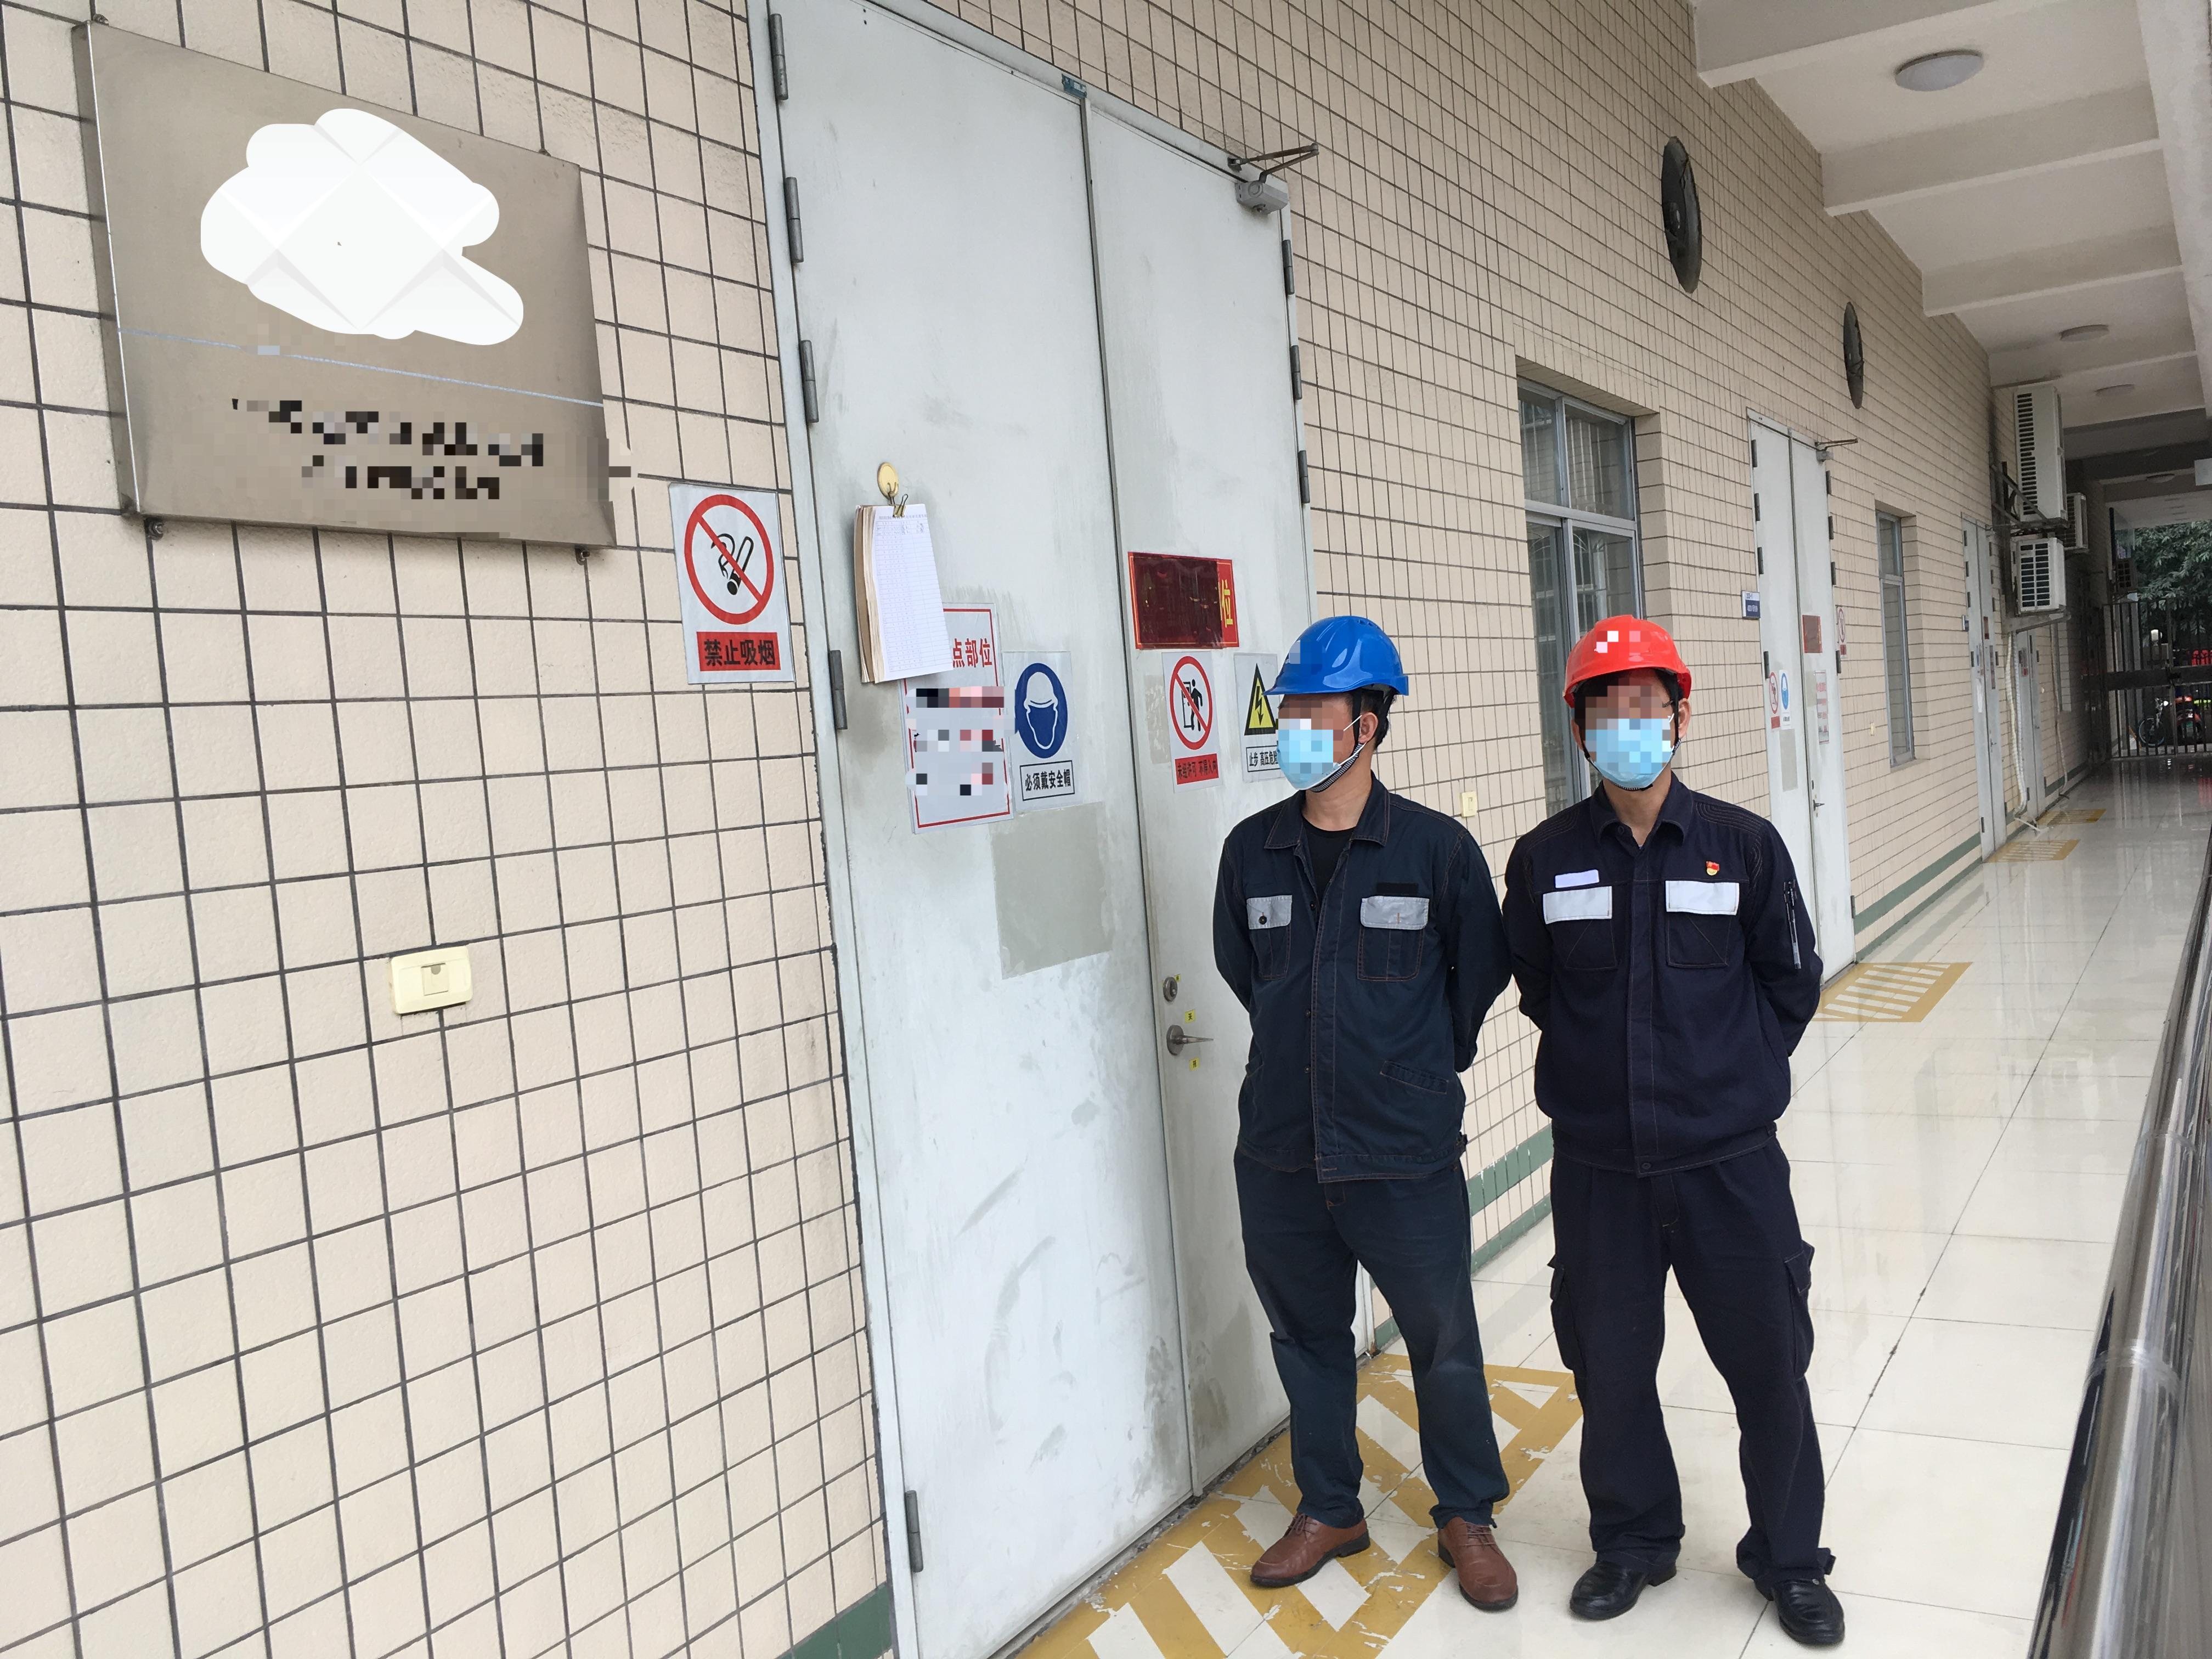halt: (1268, 615, 1416, 810), (1561, 615, 1698, 796)
inear: (1339, 697, 1393, 772)
